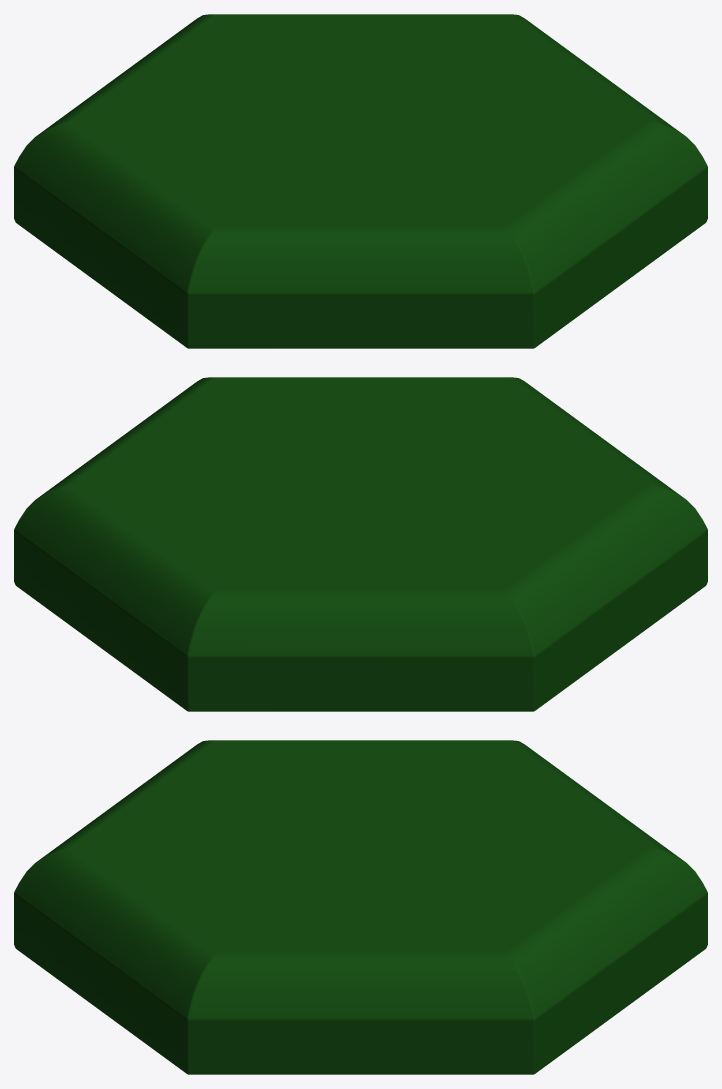
File: Hex_Tile.fbx
3 renders of one model, top to bottom at view 1: azimuth 30°, elevation 25°; view 2: azimuth 150°, elevation 25°; view 3: azimuth 270°, elevation 25°, orthographic.
Visible parts, largest first — view 1: Cylinder; view 2: Cylinder; view 3: Cylinder.
Boxes of the visible parts, x1=… form: Cylinder: x1=14, y1=14, x2=707, y2=348; Cylinder: x1=14, y1=377, x2=707, y2=711; Cylinder: x1=14, y1=740, x2=707, y2=1074.
Size of the model in its own units: 1732 by 327 by 1998.
